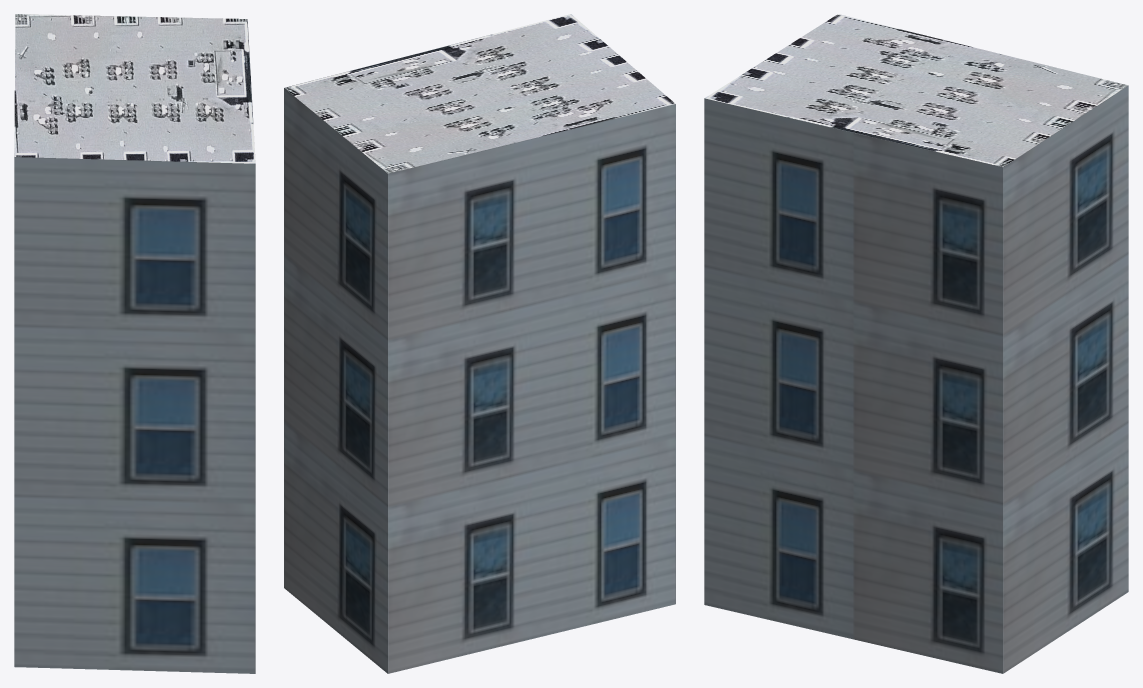
The model's file is ResTex__4860.fbx.
The picture shows the model from 3 angles, left to right: view 1: azimuth 30°, elevation 25°; view 2: azimuth 150°, elevation 25°; view 3: azimuth 270°, elevation 25°; orthographic projection.
Parts seen in each view (by area): view 1: CityEngineMaterial_18_m, CityEngineMaterial_8_m; view 2: CityEngineMaterial_18_m, CityEngineMaterial_8_m; view 3: CityEngineMaterial_18_m, CityEngineMaterial_8_m.
Boxes of the visible parts, box(x1,y1,x2,y2) form: CityEngineMaterial_18_m: box(14, 157, 255, 673); CityEngineMaterial_8_m: box(14, 14, 255, 163); CityEngineMaterial_18_m: box(284, 88, 675, 673); CityEngineMaterial_8_m: box(284, 14, 675, 173); CityEngineMaterial_18_m: box(704, 85, 1128, 673); CityEngineMaterial_8_m: box(705, 14, 1127, 167).
Size of the model in its own units: 5.84 by 9 by 6.83.
2 materials, 2 textured.
